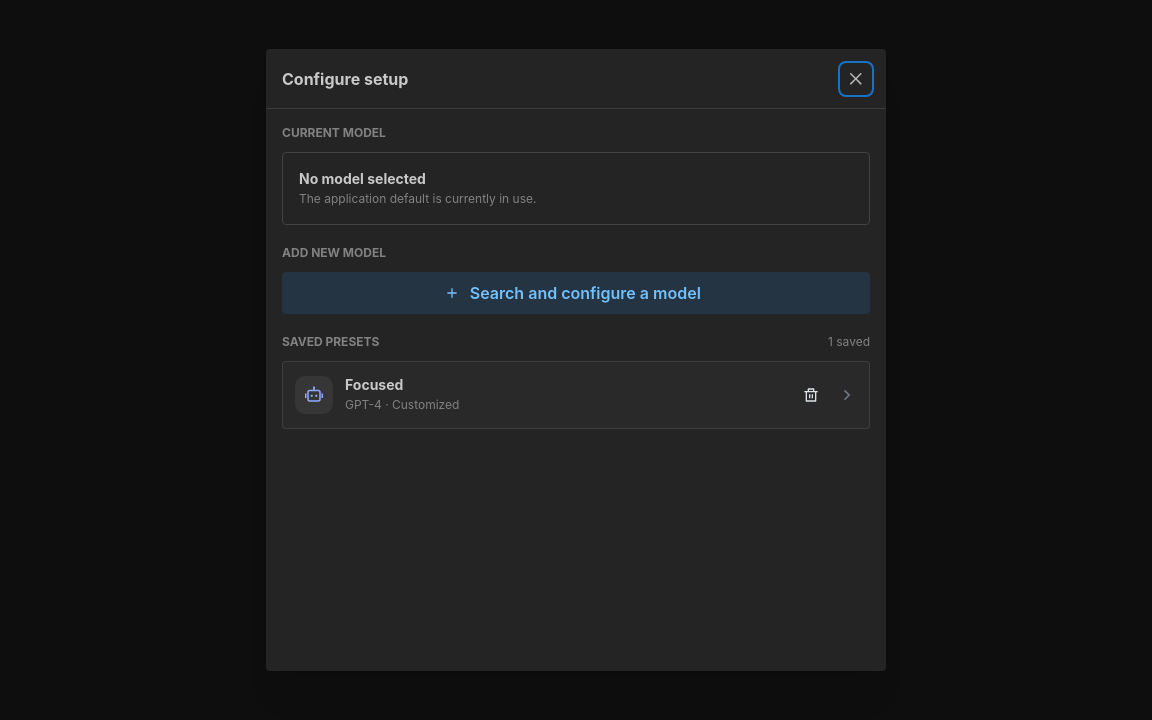
Test: ModelSelectorModal › saves a copy of an existing preset as new
Click the text "Focused" at (374, 385), box [345,375,403,395]
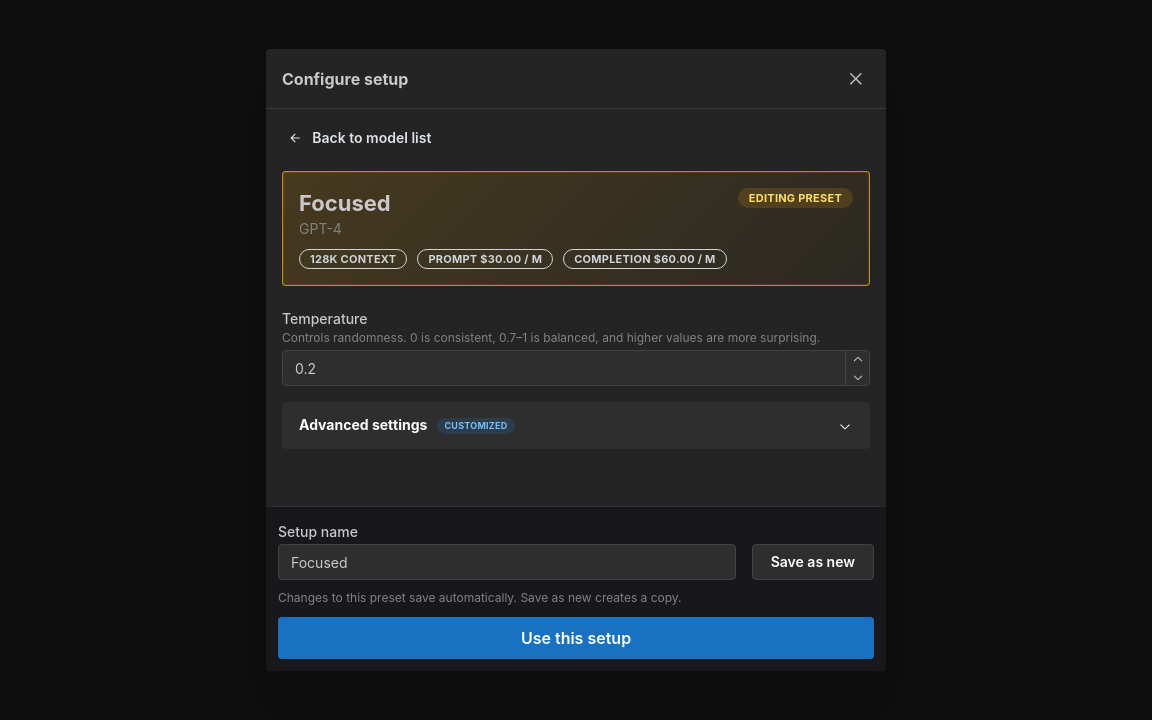
Click the button "Save as new" at (813, 562), box [752,544,874,580]
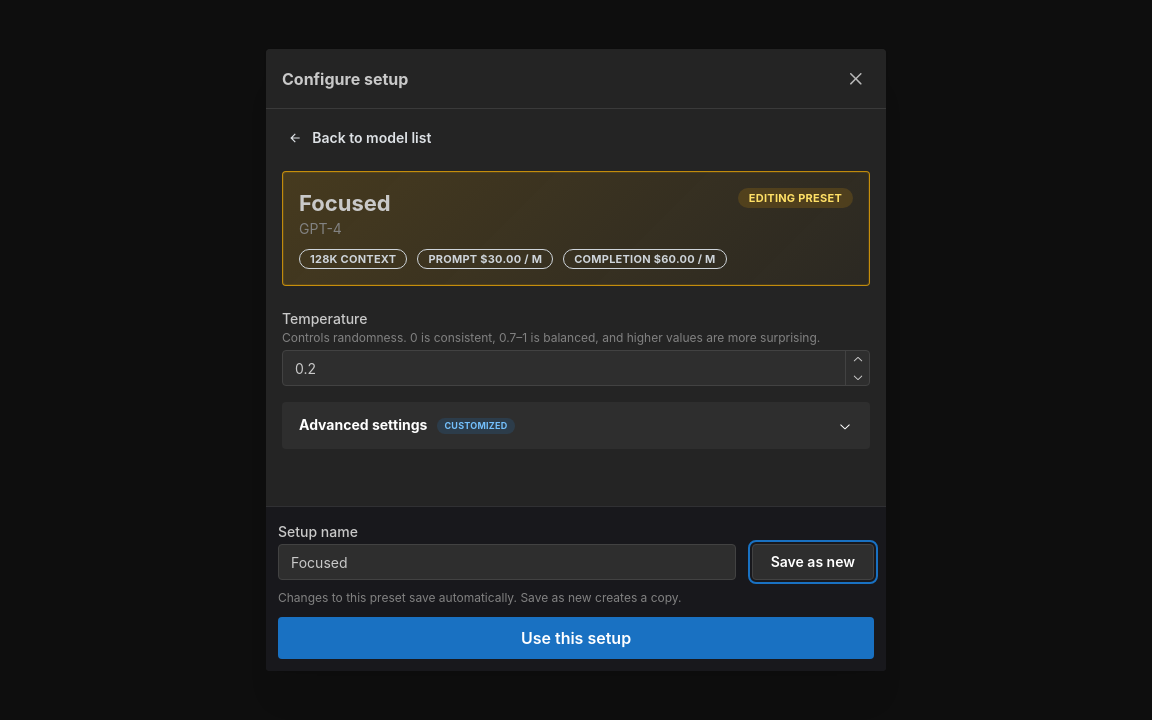
Click the button "Back to model list" at (361, 138), box [282,125,440,151]
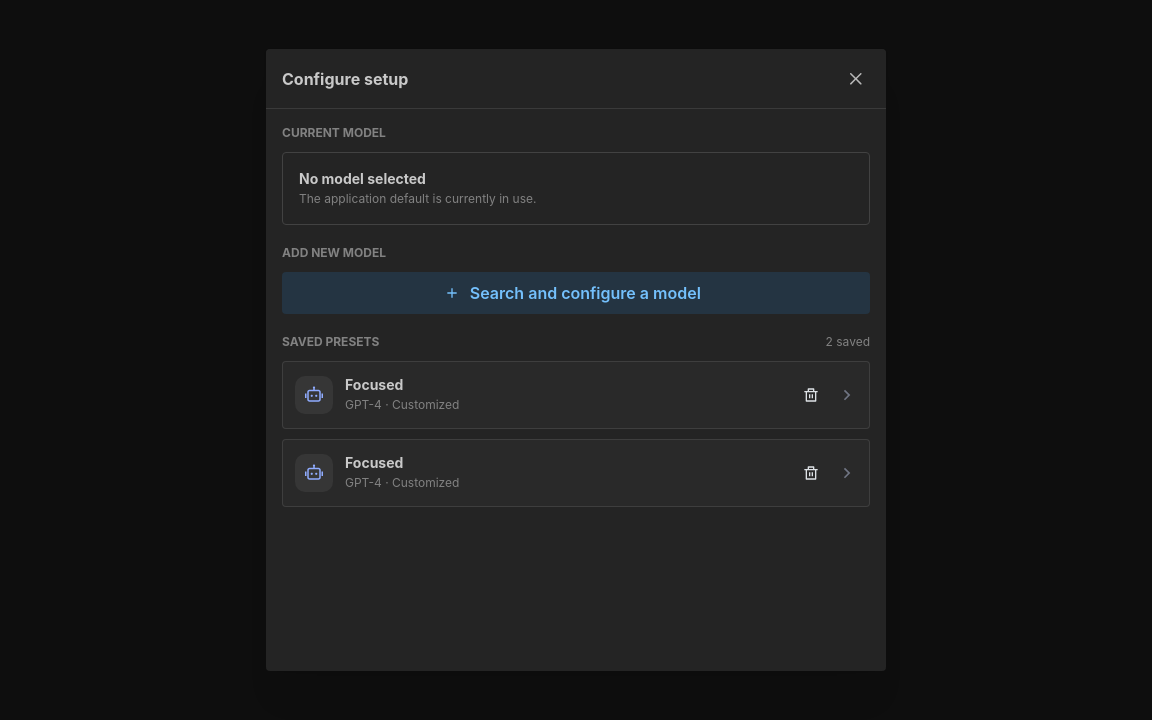
Expected: the text "2 saved" is shown, [826,334,870,351]
